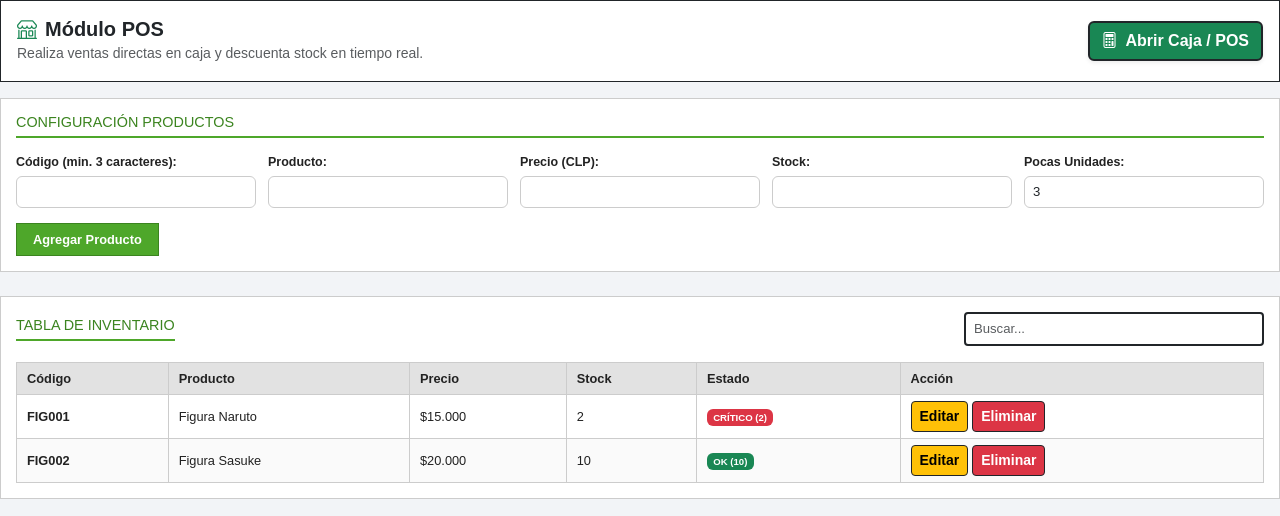
GestionProductos › actualiza un producto y muestra el mensaje de resultado
The image size is (1280, 516).
Click the button "Editar" in the row of "FIG001".
click(939, 416)  # box [910,401,968,432]
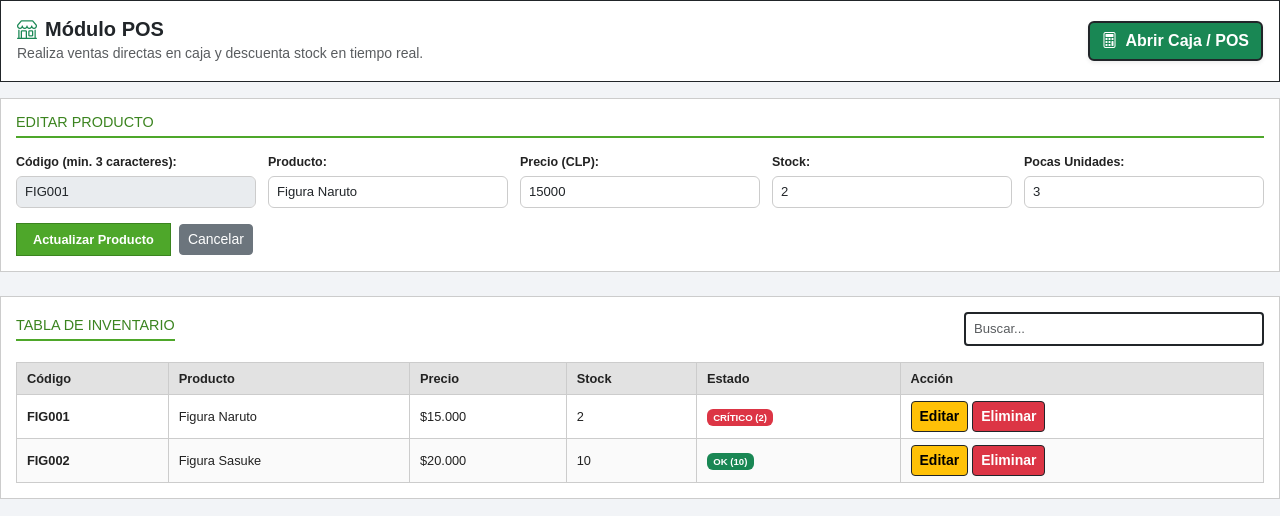
Replace the text in the field below "Producto:" with "Figura Naruto Actualizada" at (388, 192), box [268,176,508,208]
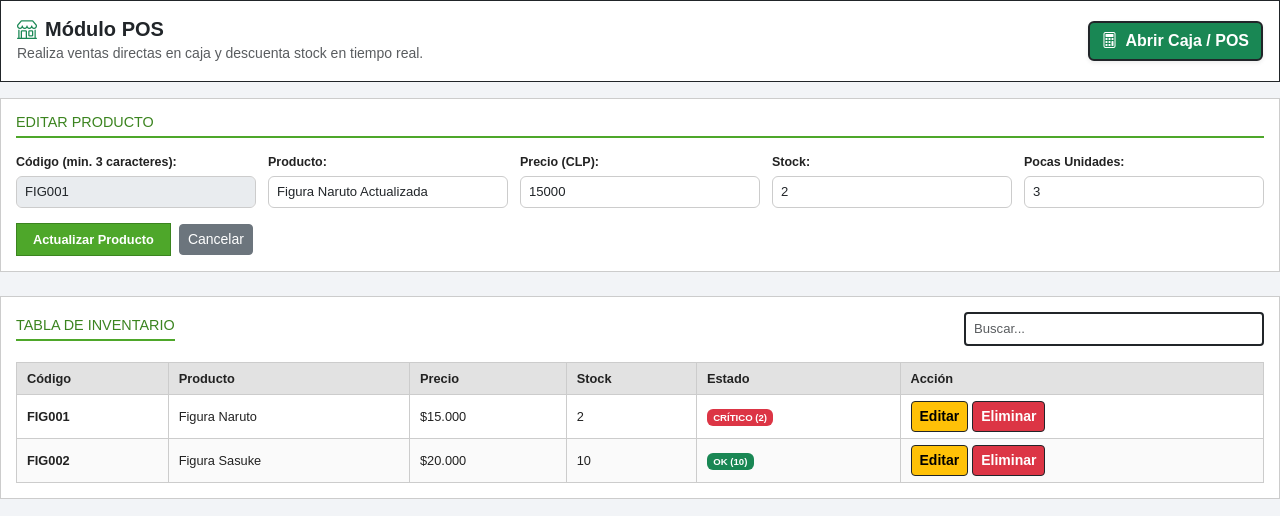
Replace the text in the number field below "Precio (CLP):" with "18000" at (640, 192), box [520,176,760,208]
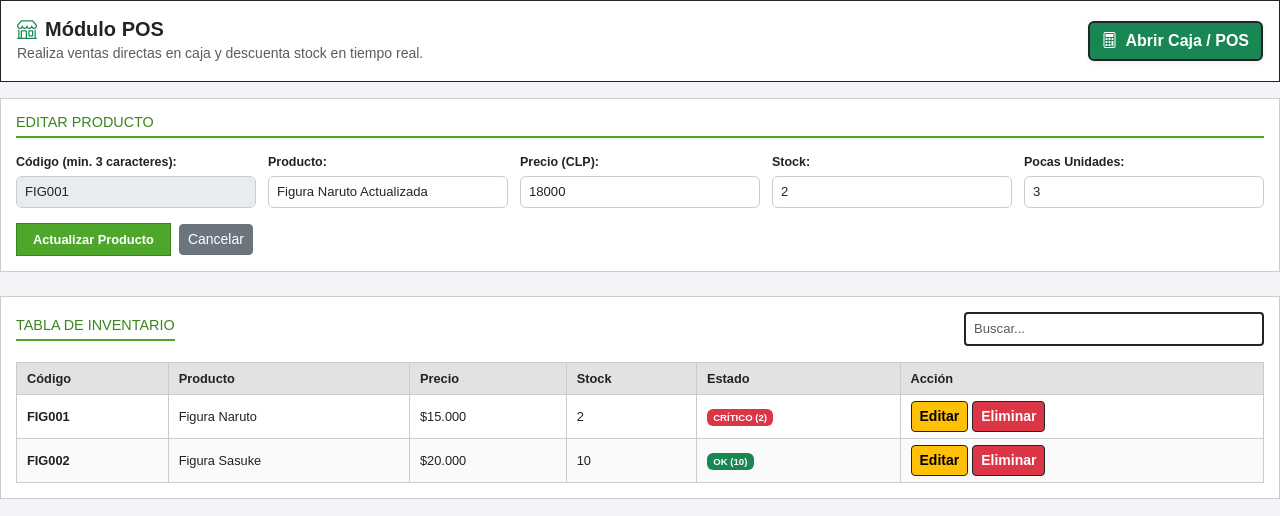
Replace the text in the number field below "Stock:" with "5" at (892, 192), box [772,176,1012,208]
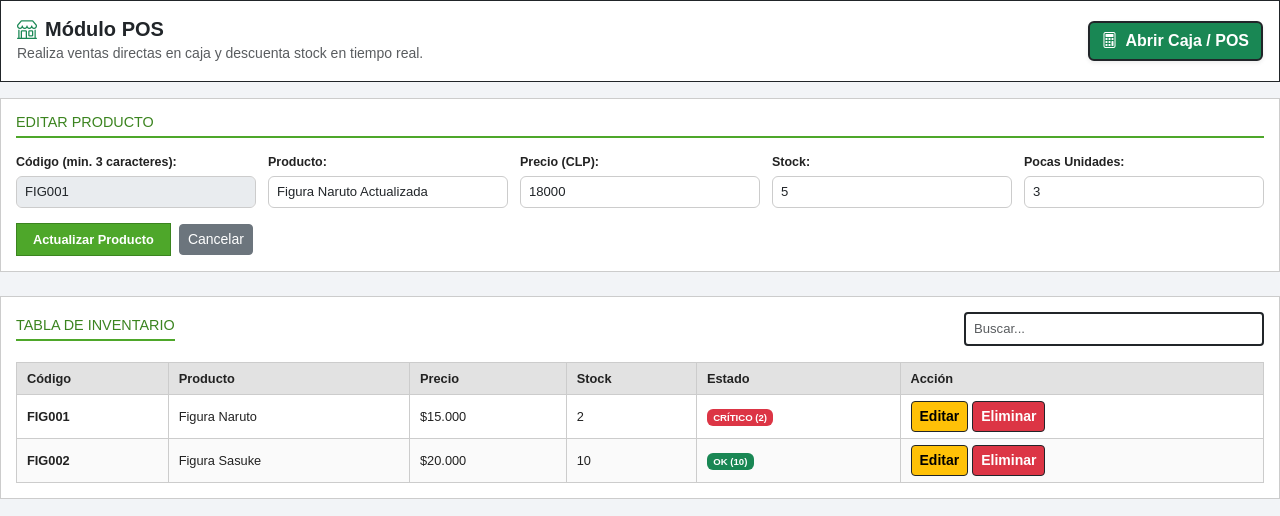
Click the button "Actualizar Producto".
click(93, 239)  # box [16,223,171,256]
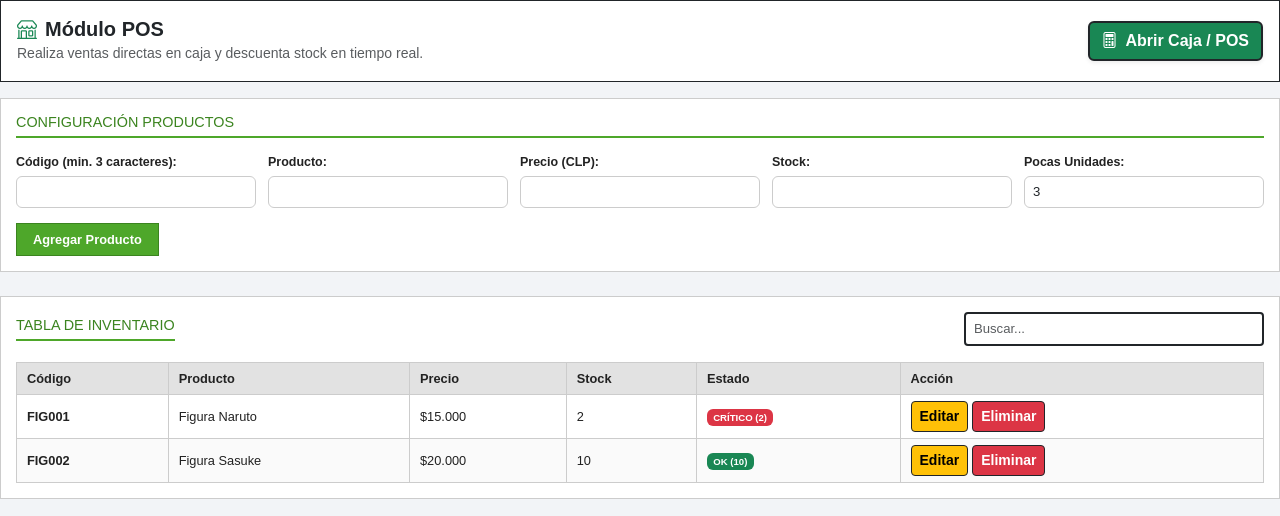
Check: the heading "Configuración Productos" is shown, box [16,114,1264,138]
